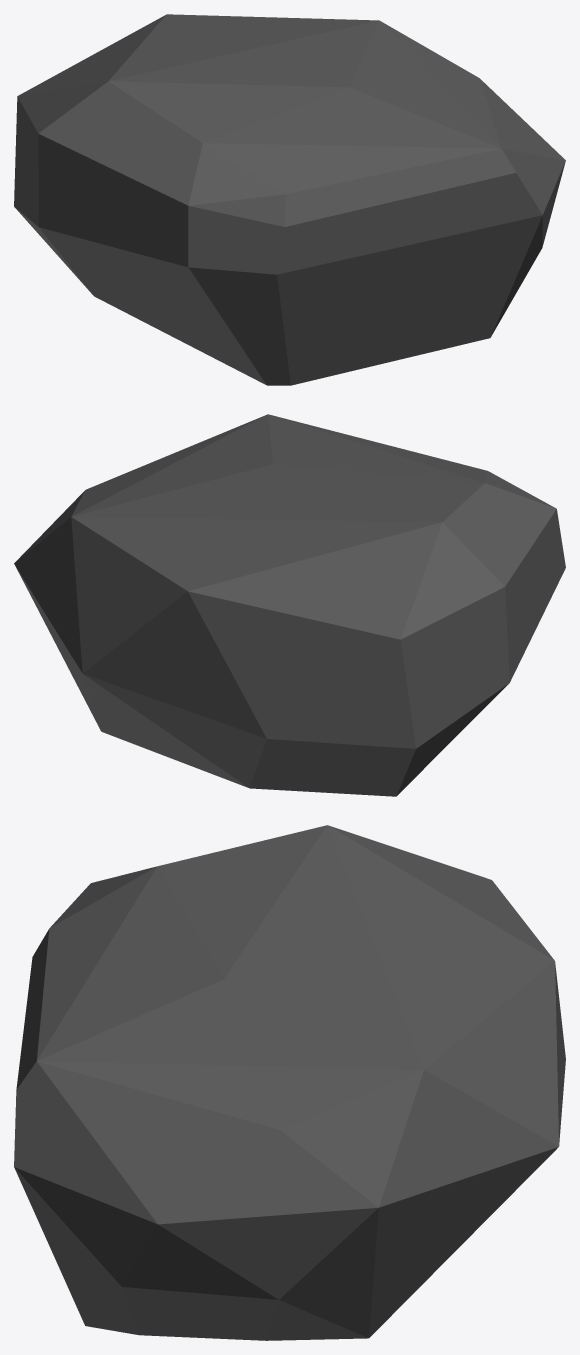
File: small rock3.fbx
The picture shows the model from 3 angles, top to bottom: view 1: azimuth 30°, elevation 25°; view 2: azimuth 150°, elevation 25°; view 3: azimuth 270°, elevation 25°; orthographic projection. The views are drawn at different scales.
Parts seen in each view (by area): view 1: rocksmall4_LOD0; view 2: rocksmall4_LOD0; view 3: rocksmall4_LOD0.
Boxes of the visible parts, x1,y1,x2,y2 form: rocksmall4_LOD0: (14, 14, 565, 385); rocksmall4_LOD0: (14, 414, 565, 796); rocksmall4_LOD0: (14, 825, 565, 1340).
Size of the model in its own units: 2.88 by 1.55 by 2.38.
